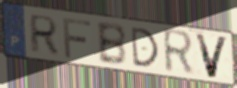B: (95, 22, 129, 68)
D: (129, 26, 161, 69)
F: (61, 16, 93, 60)
R: (161, 26, 196, 78), (28, 13, 60, 56)
V: (193, 31, 231, 80)
